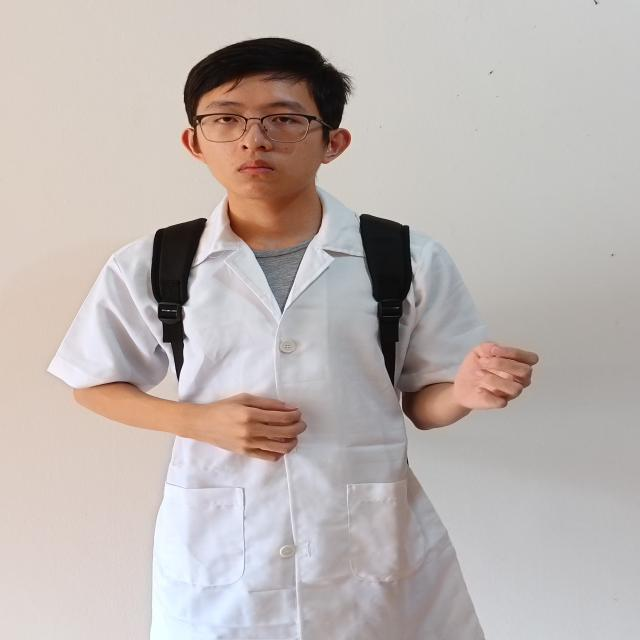person_with_labcoat: (49, 38, 537, 640)
